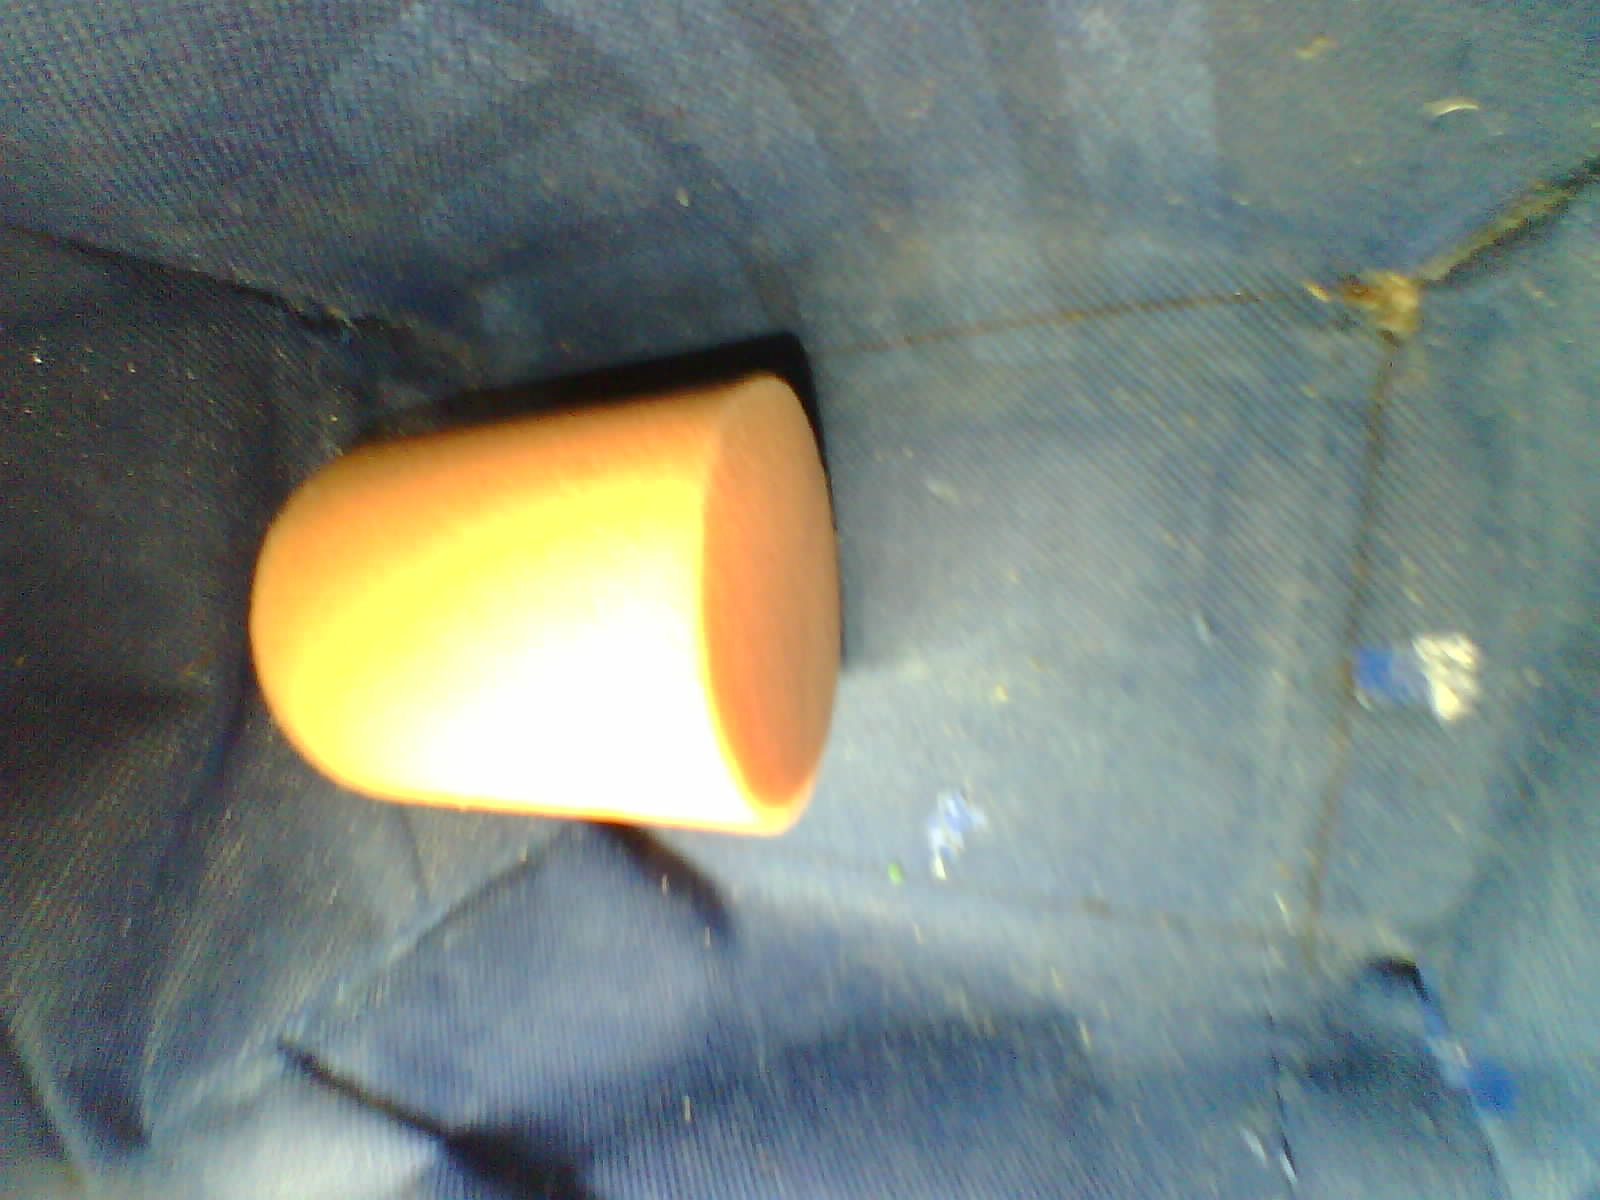cylinder-soft: (228, 347, 858, 866)
